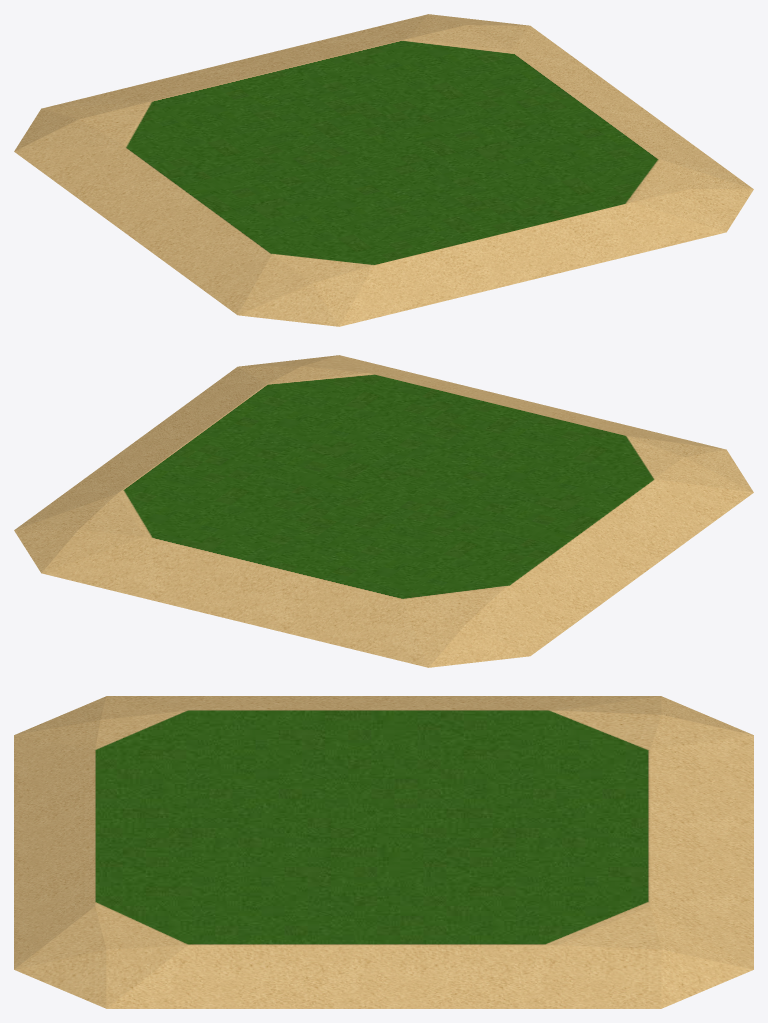
File: ground.obj
The picture shows the model from 3 angles, top to bottom: view 1: azimuth 30°, elevation 25°; view 2: azimuth 150°, elevation 25°; view 3: azimuth 270°, elevation 25°; orthographic projection. The views are drawn at different scales.
Visible parts, largest first — view 1: Plane_Plane.001; view 2: Plane_Plane.001; view 3: Plane_Plane.001.
Boxes of the visible parts, box(x1,y1,x2,y2) form: Plane_Plane.001: box(14, 14, 753, 326); Plane_Plane.001: box(14, 355, 753, 667); Plane_Plane.001: box(14, 696, 753, 1008).
Bounding box in the file's own units: 1 × 0.0392 × 1.
